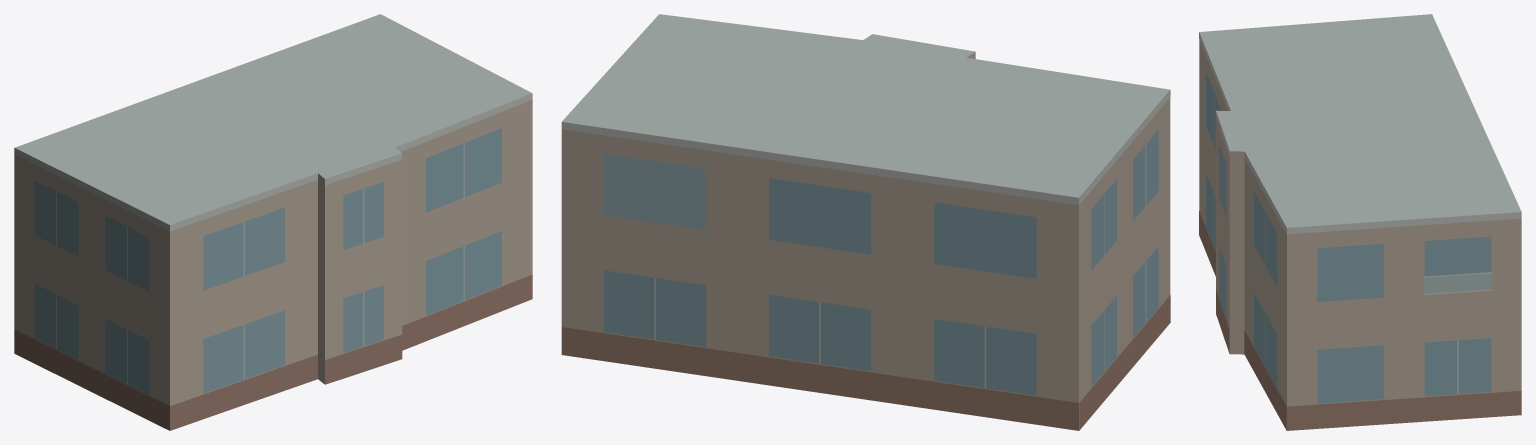
The model's file is survey-upis-32997112.glb.
The picture shows the model from 3 angles, left to right: view 1: azimuth 30°, elevation 25°; view 2: azimuth 150°, elevation 25°; view 3: azimuth 270°, elevation 25°; orthographic projection. The views are drawn at different scales.
Visible parts, largest first — view 1: survey-upis-32997112.tmp; view 2: survey-upis-32997112.tmp; view 3: survey-upis-32997112.tmp.
Boxes of the visible parts, x1=… form: survey-upis-32997112.tmp: x1=14, y1=14, x2=532, y2=430; survey-upis-32997112.tmp: x1=561, y1=14, x2=1170, y2=430; survey-upis-32997112.tmp: x1=1199, y1=14, x2=1521, y2=430.
Bounding box in the file's own units: 17.41 × 7.7 × 11.1.
